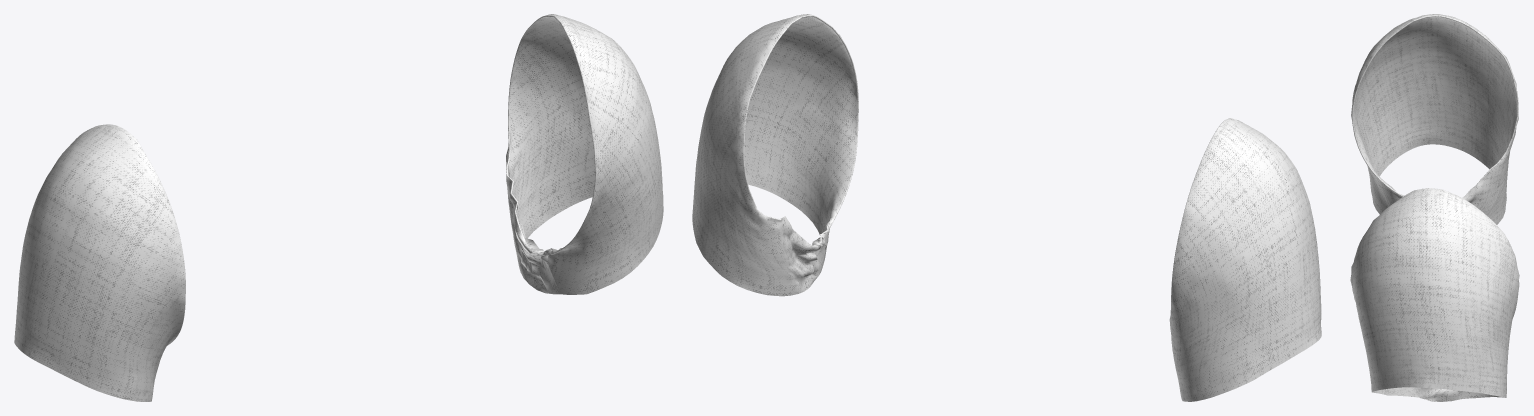
Rendered from shortsleeves.obj.
3 renders of one model, left to right at view 1: azimuth 30°, elevation 25°; view 2: azimuth 150°, elevation 25°; view 3: azimuth 270°, elevation 25°, orthographic. The views are drawn at different scales.
Bounding box in the file's own units: 426 × 175 × 122.
1 material, 1 textured.
